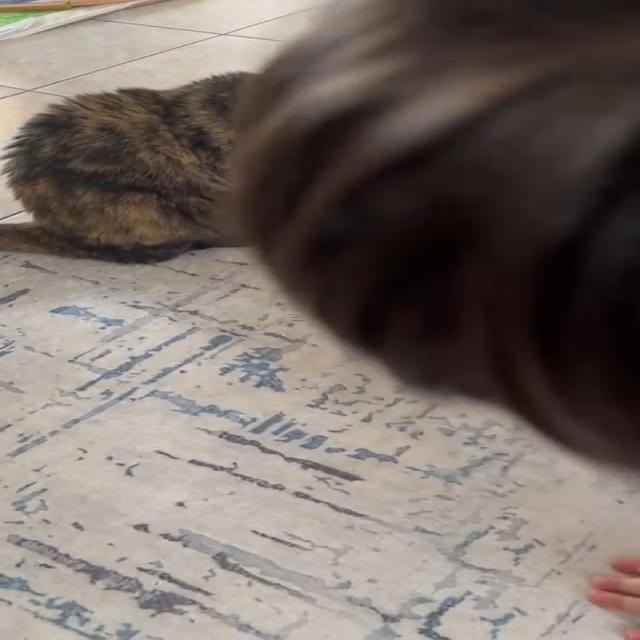authorized: (0, 69, 257, 264)
